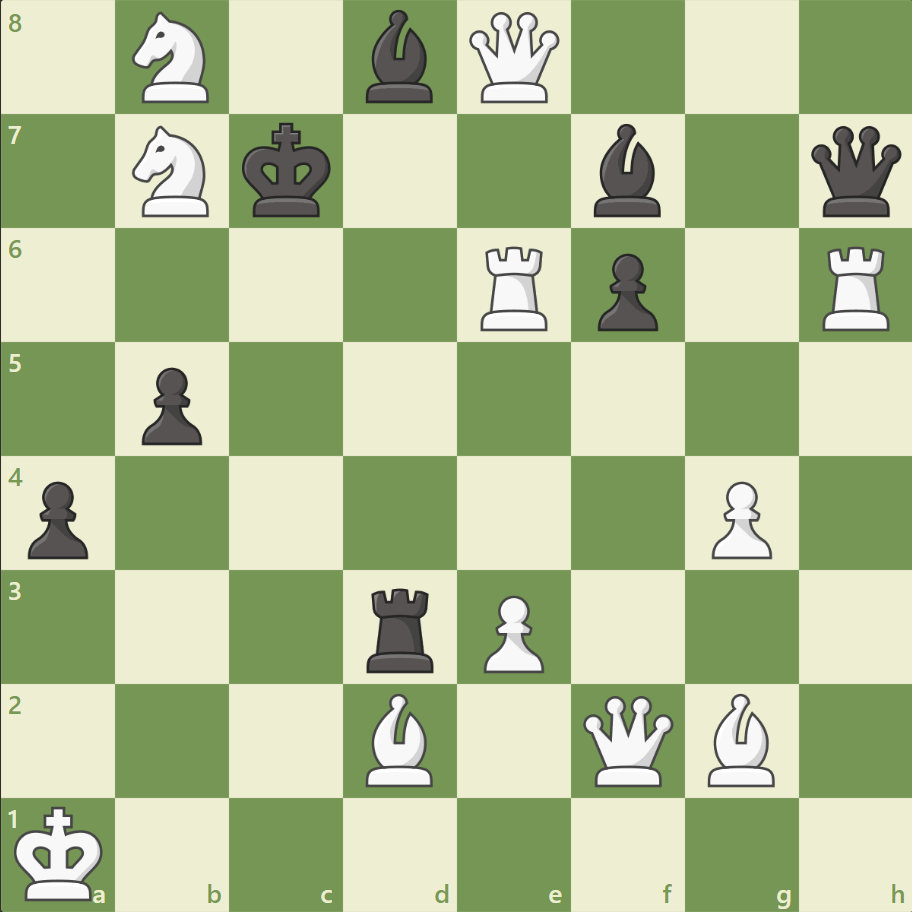B: (358, 687, 442, 790), (698, 687, 782, 790)
K: (11, 798, 111, 906)
N: (124, 7, 222, 110), (124, 121, 222, 223)
P: (701, 473, 776, 564), (474, 586, 549, 677)
Q: (464, 9, 563, 108), (578, 690, 677, 789)
R: (473, 239, 556, 336), (814, 239, 897, 336)
b: (358, 6, 442, 109), (585, 120, 669, 222)
k: (238, 117, 338, 225)
p: (133, 359, 208, 450), (20, 473, 95, 564), (588, 246, 662, 337)
q: (805, 122, 904, 222)
r: (360, 579, 442, 676)
